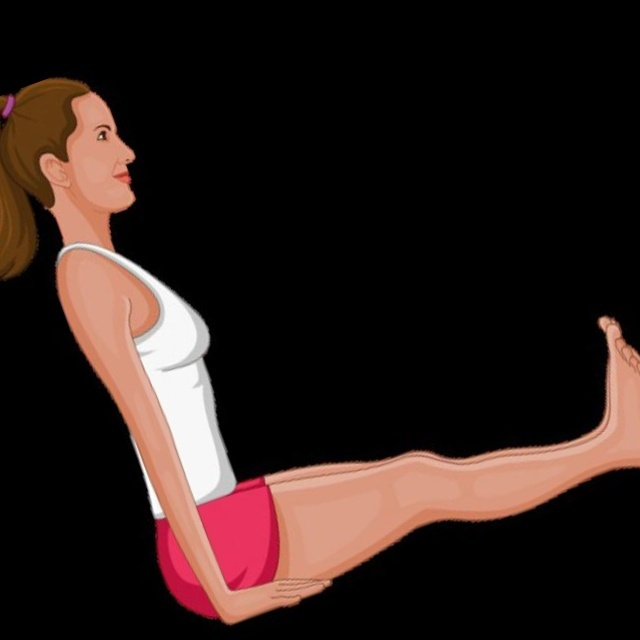Staff_Pose: (5, 80, 640, 623)
